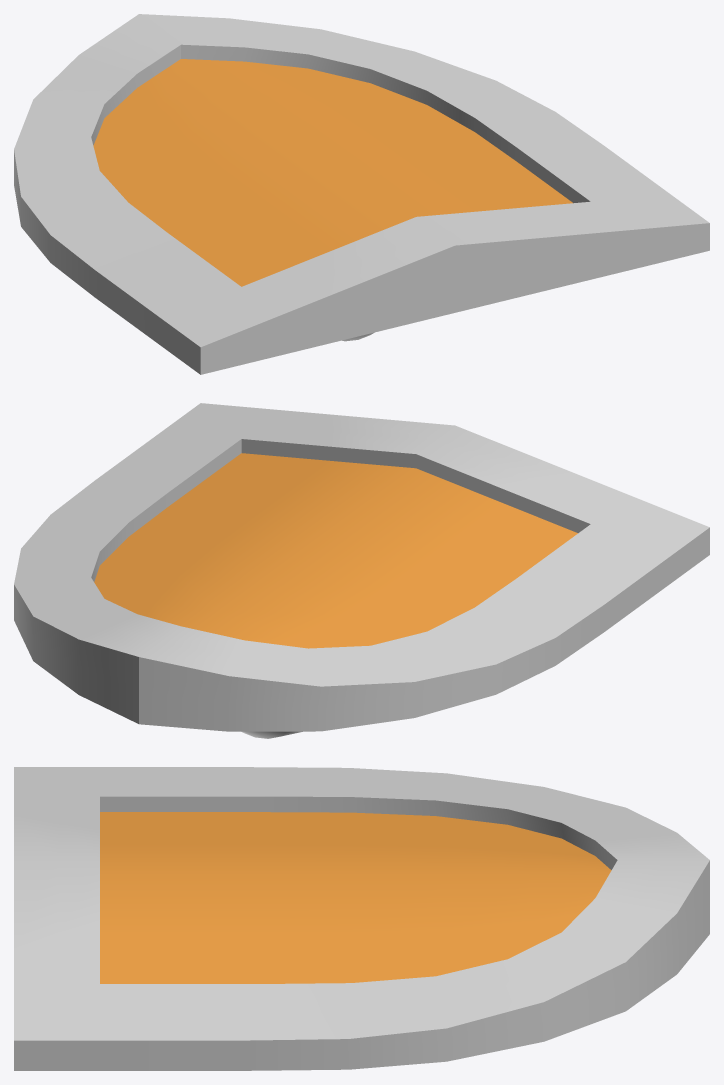
File: shield.fbx
3 views of the same model, one above another, from view 1: azimuth 30°, elevation 25°; view 2: azimuth 150°, elevation 25°; view 3: azimuth 270°, elevation 25° (orthographic). The views are drawn at different scales.
Visible parts, largest first — view 1: shield; view 2: shield; view 3: shield.
Part boxes in pixels (box(x1,y1,x2,y2)): shield: box(14, 14, 709, 374); shield: box(14, 403, 709, 738); shield: box(14, 767, 709, 1070).
Bounding box in the file's own units: 0.6107 × 0.2078 × 0.6569.
